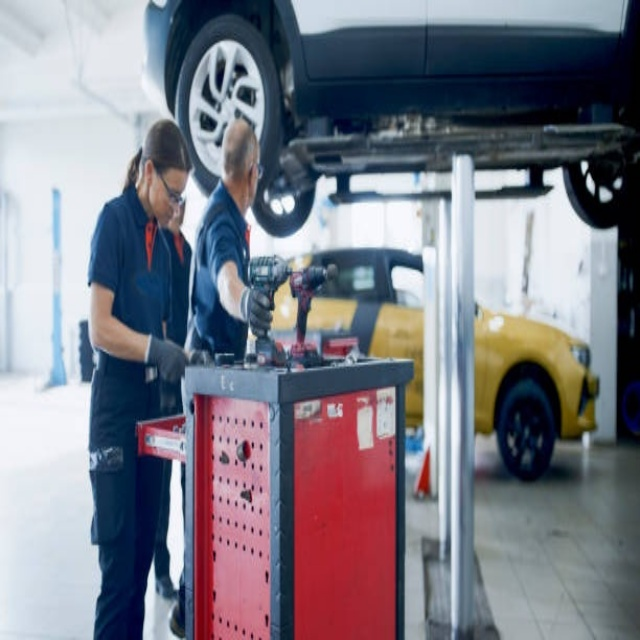Gafas: (153, 165, 189, 206), (245, 159, 264, 180)
Guantes: (144, 333, 188, 385), (238, 283, 275, 337)
Sin_mascara: (158, 203, 176, 225)
